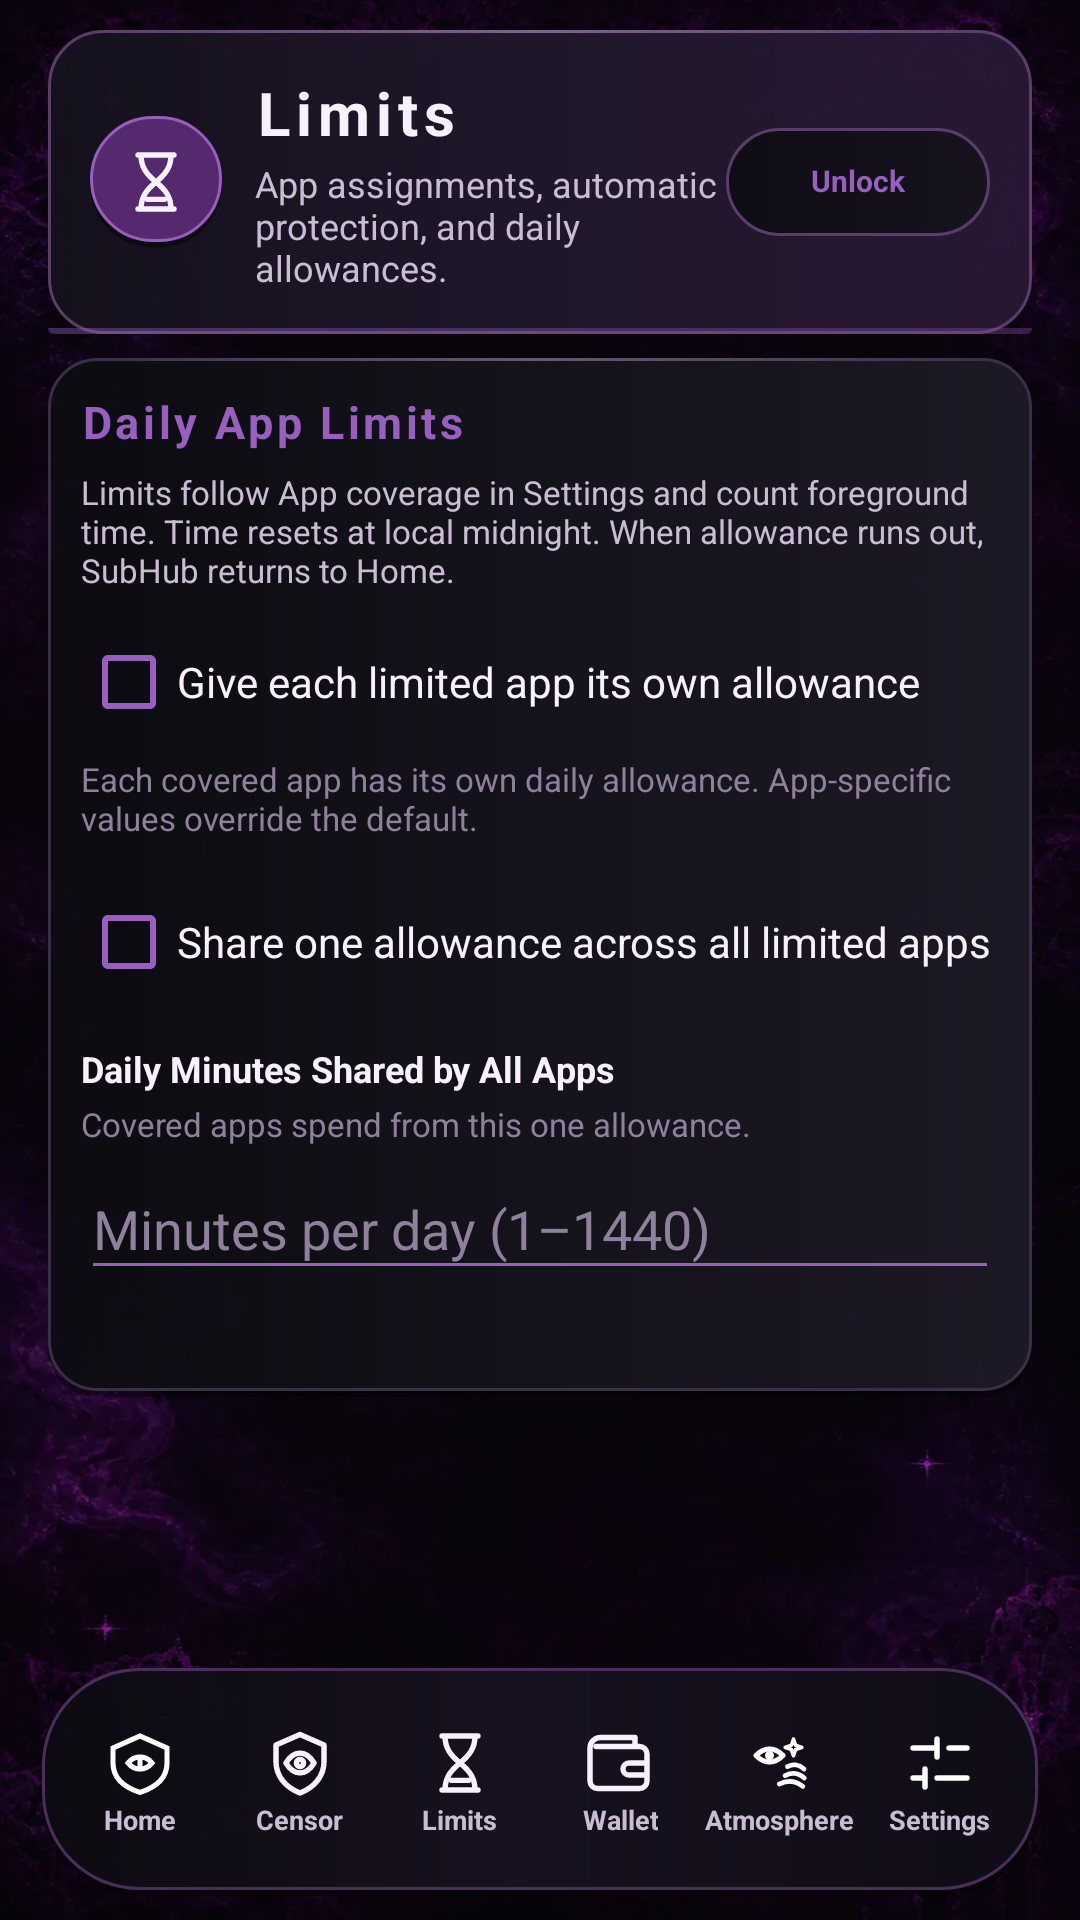

Icon bounding boxes for this 1080 × 1920 phone screenshot, format bbox(x1, y1, x2, y2):
money: bbox(587, 1734, 650, 1792)
